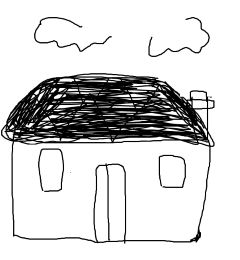chimney: (179, 78, 220, 135)
clouds: (32, 15, 113, 53), (146, 15, 211, 58)
door: (86, 156, 134, 247)
open_window: (34, 145, 68, 195), (154, 151, 189, 191)
shaded_roof: (1, 72, 214, 147)
wall: (7, 135, 214, 246)
